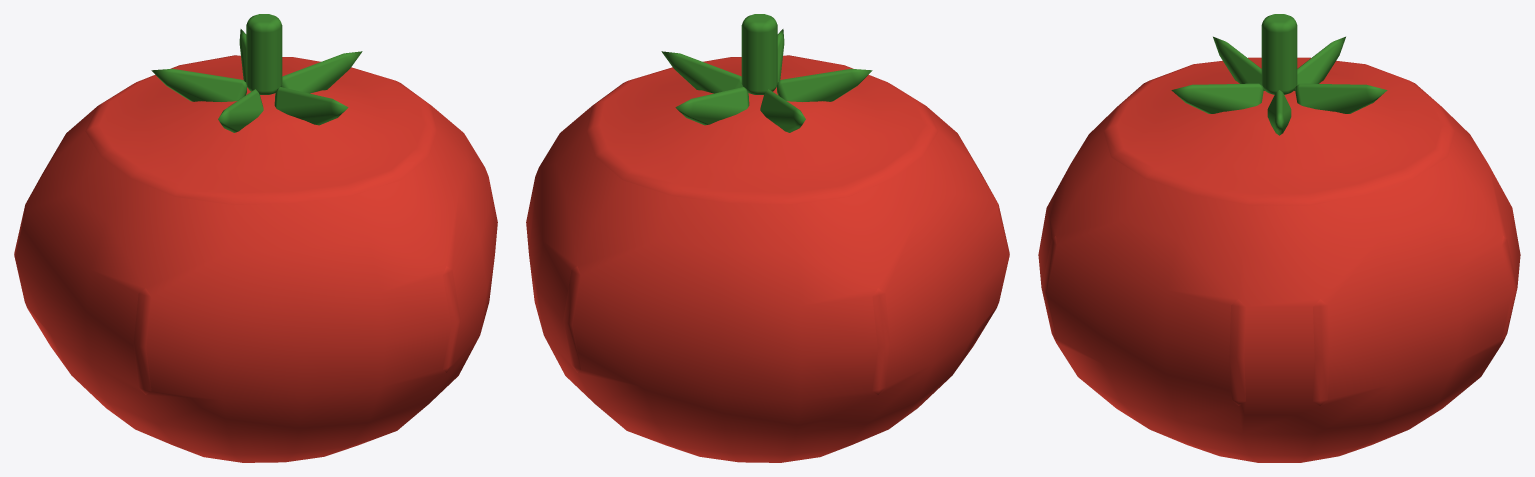
File: Tomato.glb
The picture shows the model from 3 angles, left to right: view 1: azimuth 30°, elevation 25°; view 2: azimuth 150°, elevation 25°; view 3: azimuth 270°, elevation 25°; orthographic projection.
Parts seen in each view (by area): view 1: Tomato; view 2: Tomato; view 3: Tomato.
Part boxes in pixels (x1,y1,x2,y2): Tomato: (14, 14, 497, 462); Tomato: (526, 14, 1009, 462); Tomato: (1038, 14, 1520, 462).
Bounding box in the file's own units: 0.1182 × 0.115 × 0.12.
